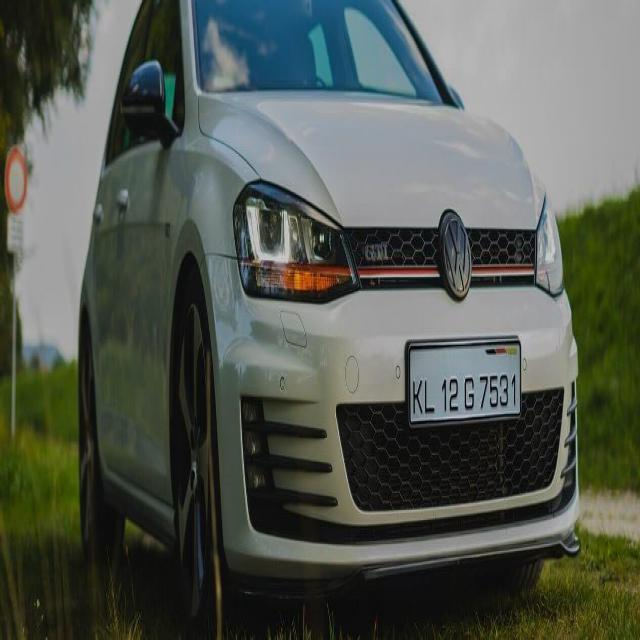license-plate: (408, 338, 520, 424)
